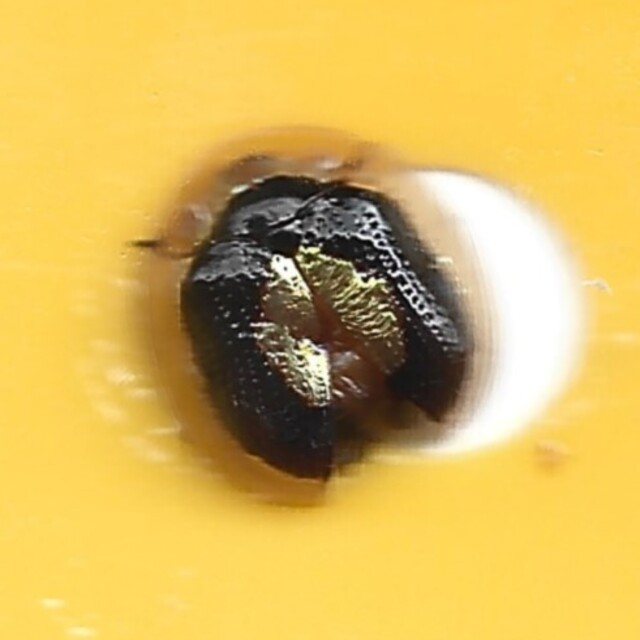Coleoptera: (130, 124, 510, 516)
